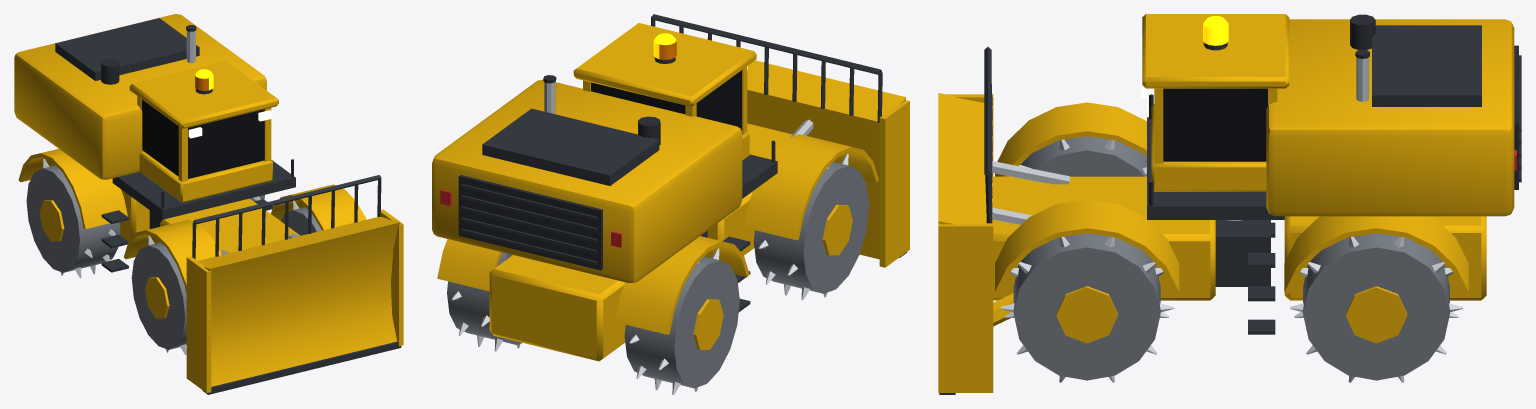
Rendered from landfill_compactor.glb.
3 renders of one model, left to right at view 1: azimuth 30°, elevation 25°; view 2: azimuth 150°, elevation 25°; view 3: azimuth 270°, elevation 25°, orthographic. The views are drawn at different scales.
Visible parts, largest first — view 1: body, beacon; view 2: body, beacon; view 3: body, beacon.
Boxes of the visible parts, x1=… form: body: x1=14, y1=14, x2=403, y2=394; beacon: x1=195, y1=69, x2=213, y2=90; body: x1=432, y1=14, x2=909, y2=394; beacon: x1=653, y1=33, x2=676, y2=59; body: x1=938, y1=14, x2=1521, y2=394; beacon: x1=1203, y1=16, x2=1228, y2=45.
Size of the model in its own units: 340 by 375 by 635.
